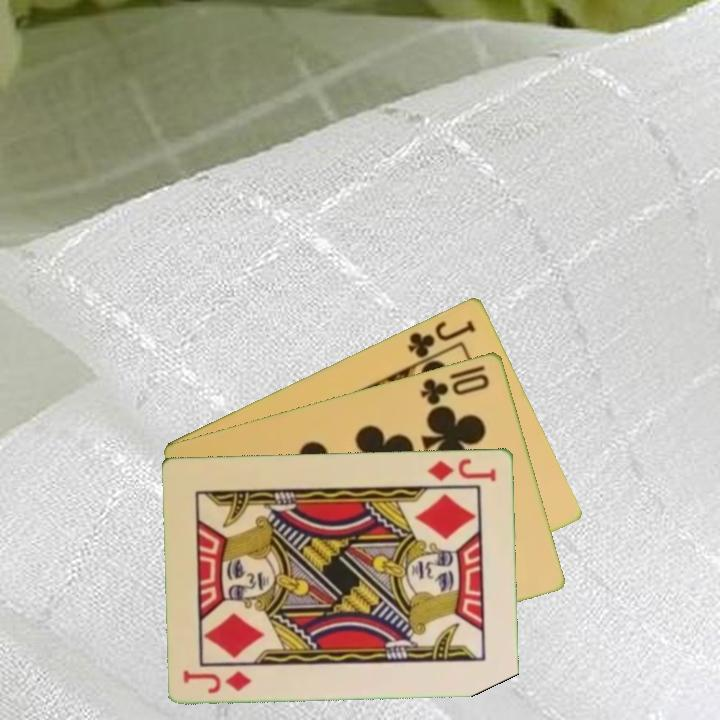10c: (417, 369, 493, 408)
Jc: (404, 316, 479, 361)
Jd: (180, 666, 255, 696), (424, 455, 499, 484)
